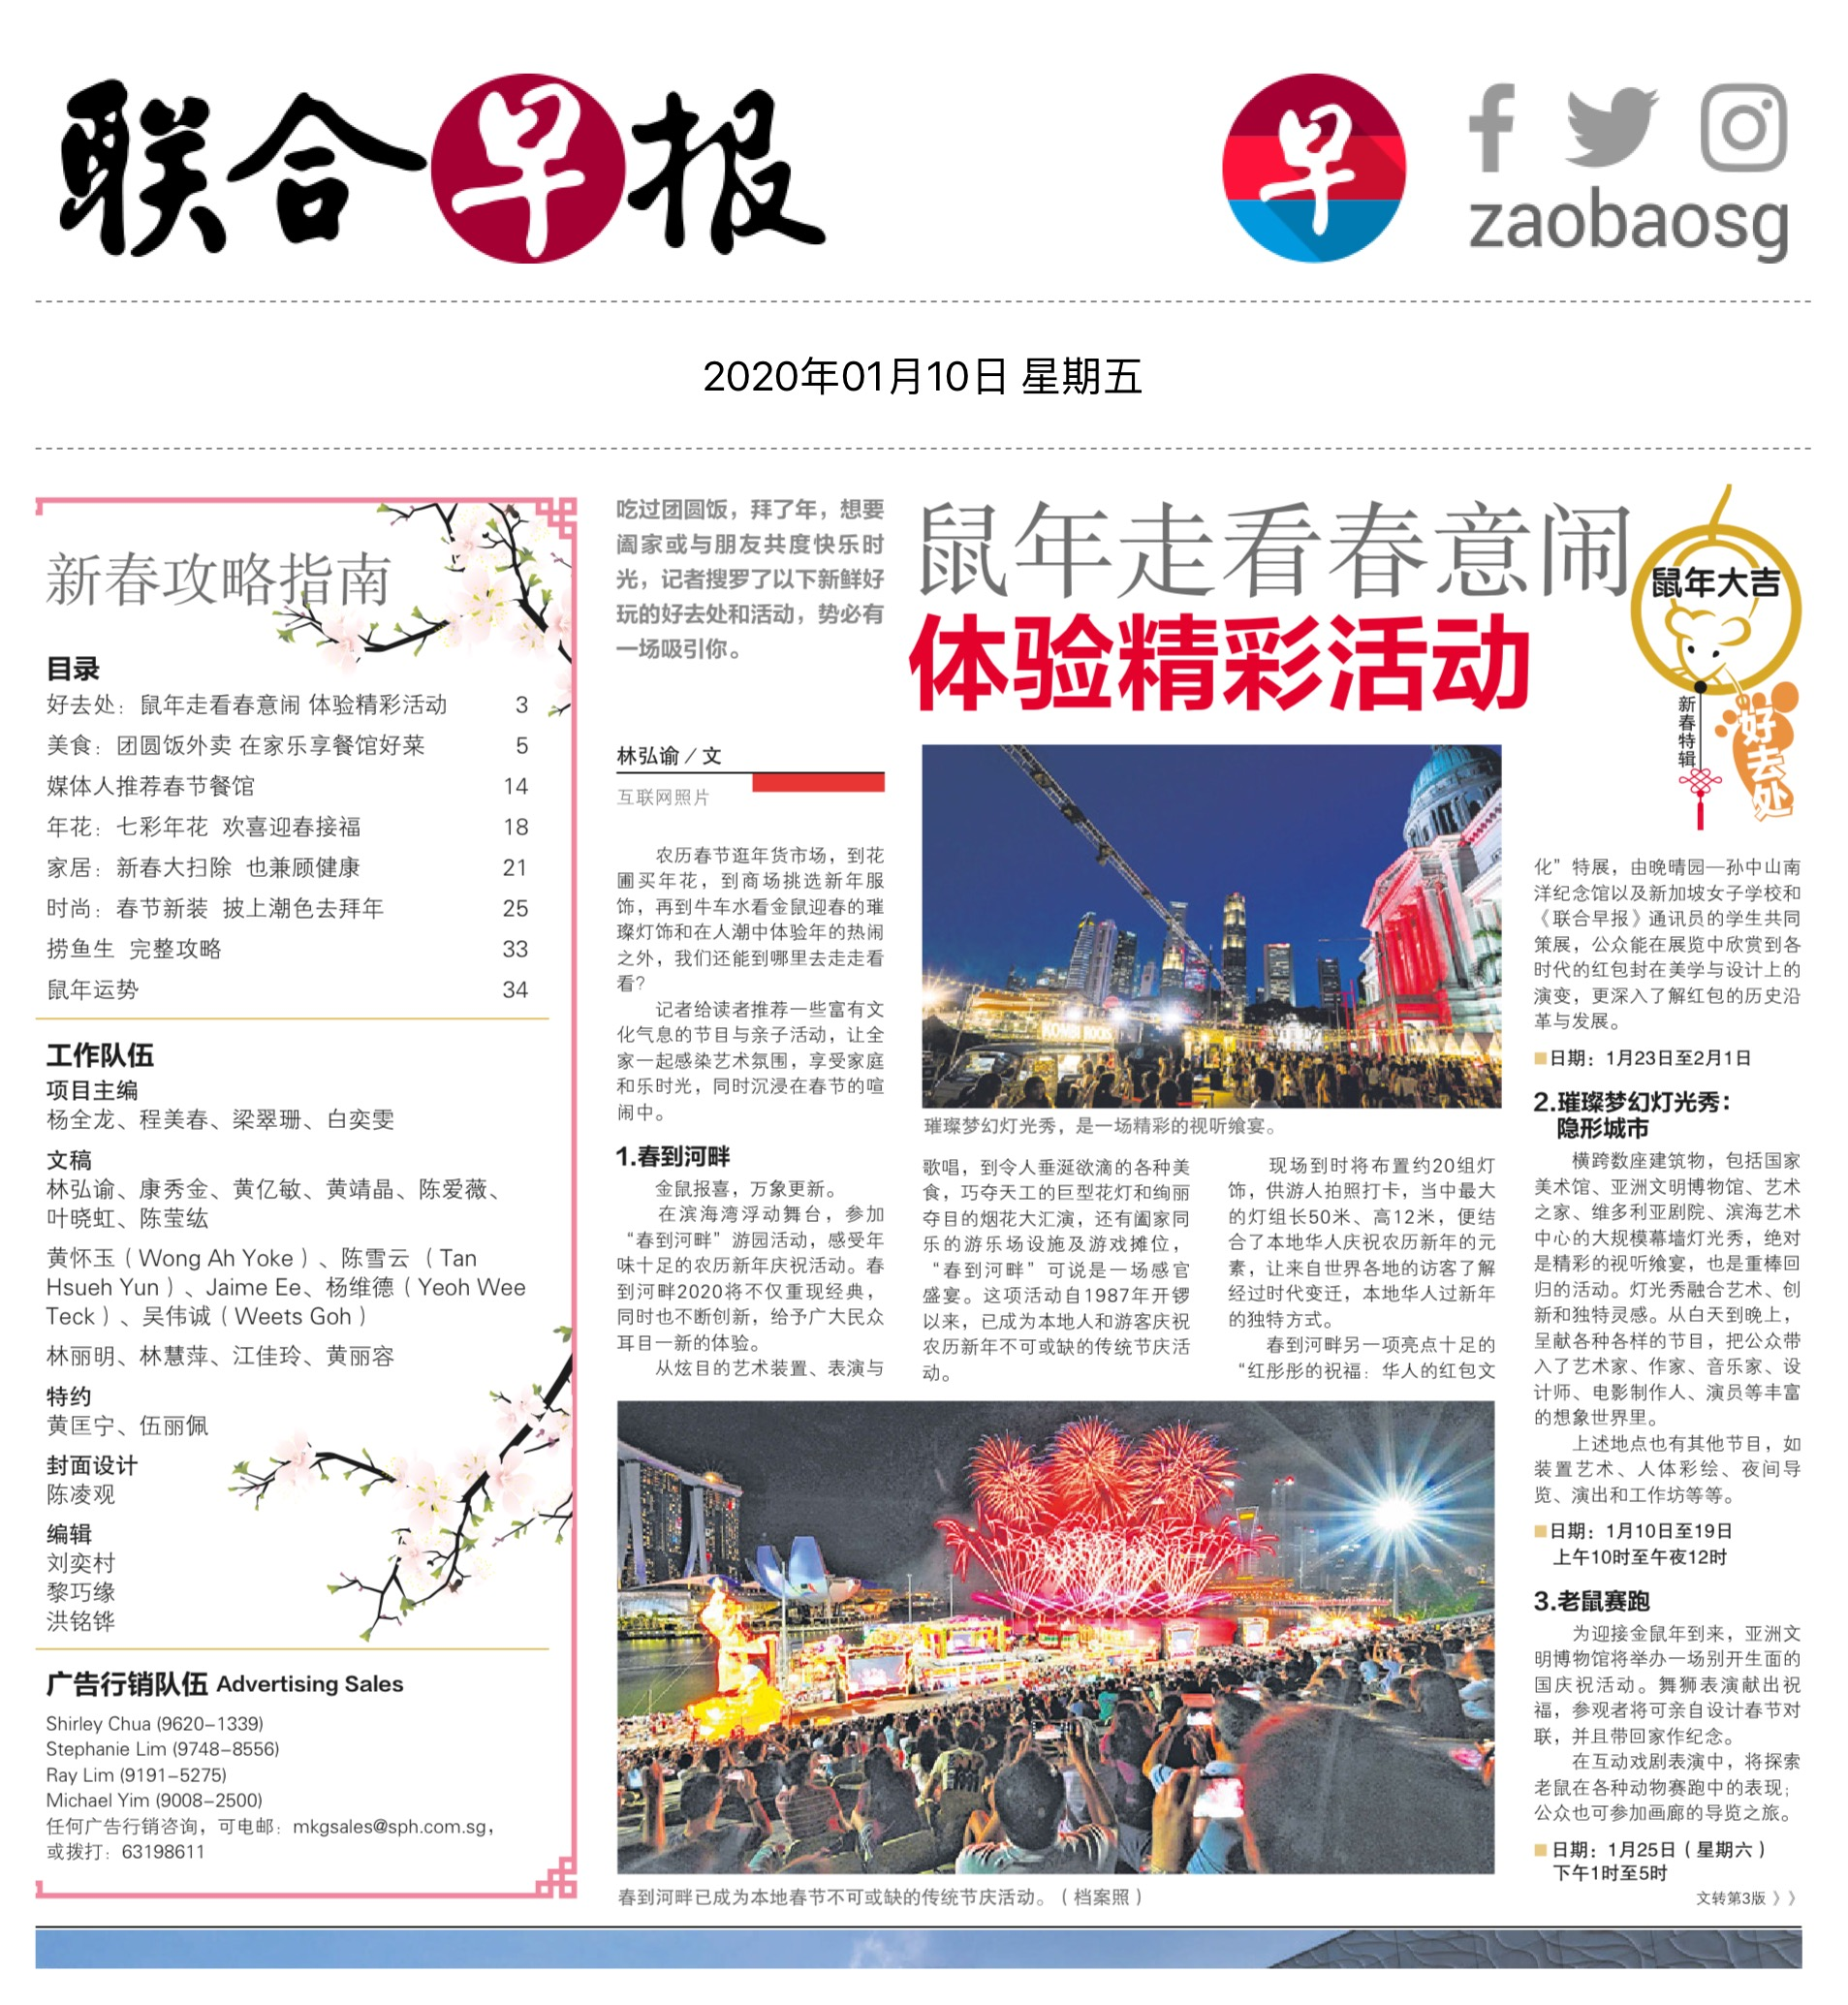heading: (905, 489, 1633, 727)
